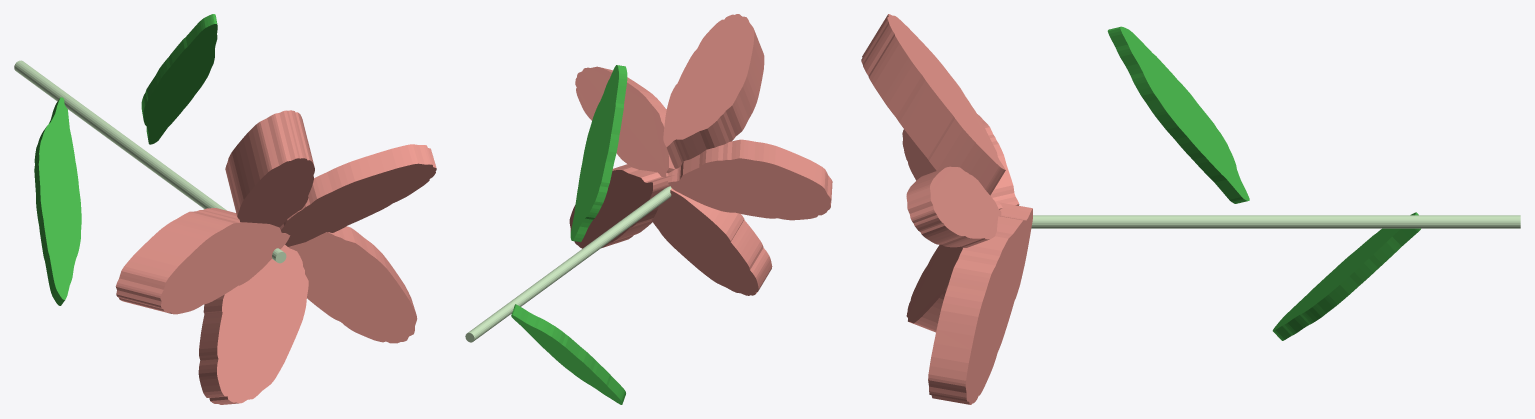
The model's file is tinker.obj.
3 renders of one model, left to right at view 1: azimuth 30°, elevation 25°; view 2: azimuth 150°, elevation 25°; view 3: azimuth 270°, elevation 25°, orthographic. The views are drawn at different scales.
Parts seen in each view (by area): view 1: group_0_15308428, group_0_4634441, group_0_13165757; view 2: group_0_15308428, group_0_4634441, group_0_13165757; view 3: group_0_15308428, group_0_4634441, group_0_13165757.
Boxes of the visible parts, x1,y1,x2,y2 form: group_0_15308428: (115, 110, 436, 404); group_0_4634441: (34, 14, 217, 305); group_0_13165757: (14, 60, 286, 263); group_0_15308428: (569, 14, 832, 295); group_0_4634441: (511, 65, 627, 404); group_0_13165757: (465, 186, 671, 342); group_0_15308428: (861, 14, 1032, 404); group_0_4634441: (1107, 26, 1420, 340); group_0_13165757: (1031, 215, 1520, 228).
Bounding box in the file's own units: 28.57 × 28.99 × 48.68.
